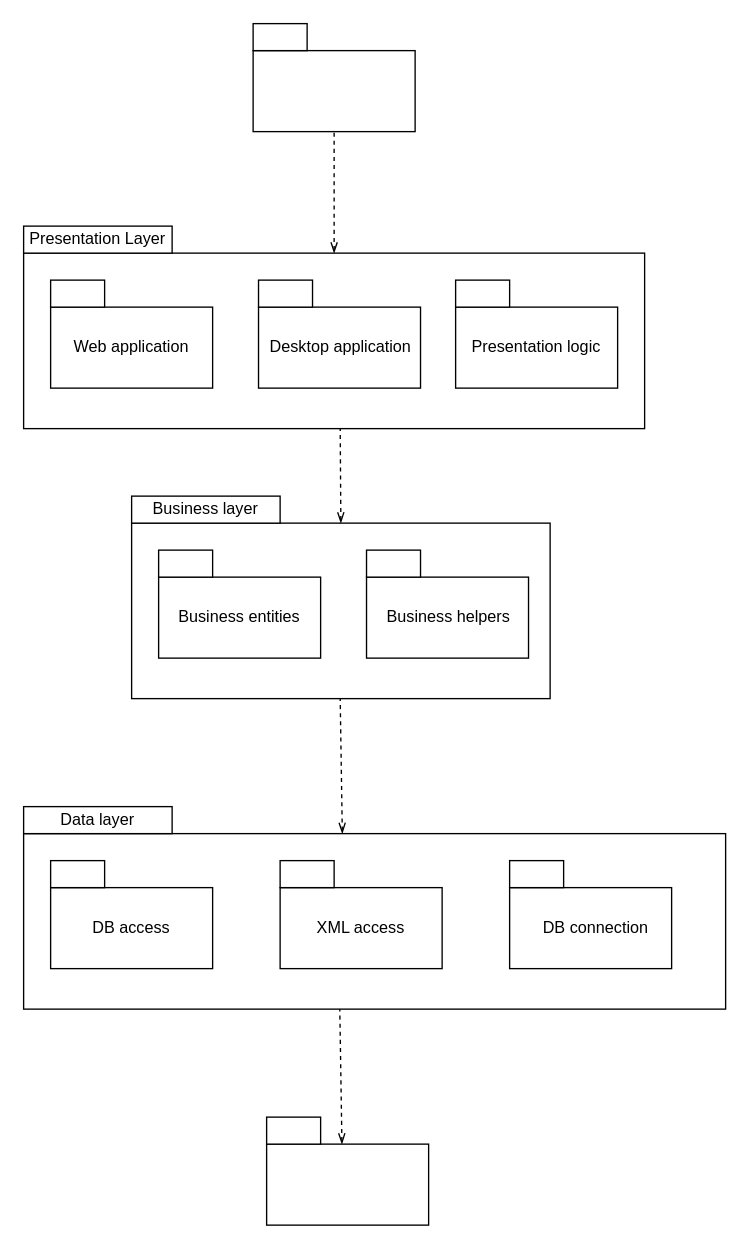
The diagram is 749 pixels wide and 1249 high, and some of its shapes have lost their labels. Each missing label, with the box of its shape:
Data sources: (265, 1143, 429, 1225)
Users: (252, 49, 415, 132)
